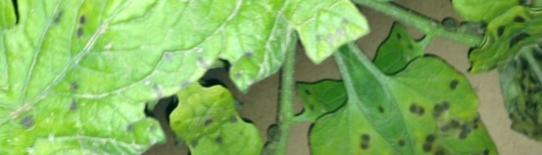Tomato Septoria leaf spot: (68, 0, 345, 132), (270, 57, 479, 155)
